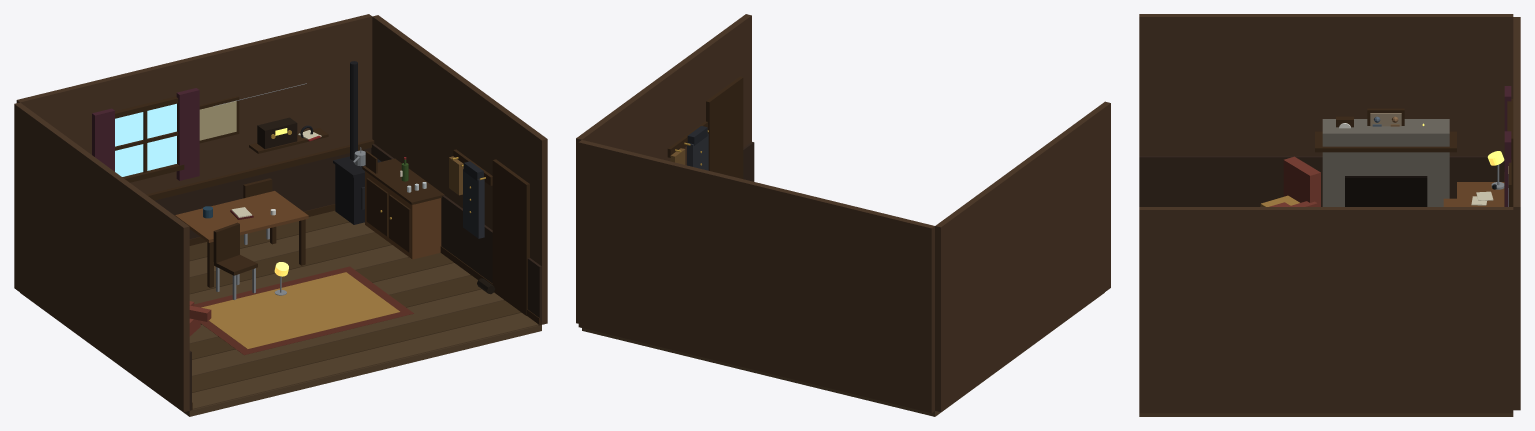
Rendered from cottage.glb.
The picture shows the model from 3 angles, left to right: view 1: azimuth 30°, elevation 25°; view 2: azimuth 150°, elevation 25°; view 3: azimuth 270°, elevation 25°; orthographic projection. The views are drawn at different scales.
Parts seen in each view (by area): view 1: WallLeft, WallBack, WallRight, CtRugBorder, Plank0, Plank1, DoorPanel, BandBack, Plank2, BandRight, CtWinGlass, KitchenTableTop (+24 smaller); view 2: WallBack, WallLeft, WallRight, DoorPanel, Floor, WrenCoat; view 3: WallRight, WallLeft, BandLeft, FireSurround, WallBack, FireOpening, Floor, ArmBack, MantelShelf, CtDeskTop, CtCurtainR, MantelPhoto.
Part boxes in pixels (x1=…): WallLeft: x1=14, y1=102, x2=189, y2=411; WallBack: x1=16, y1=14, x2=372, y2=194; WallRight: x1=372, y1=15, x2=547, y2=324; CtRugBorder: x1=201, y1=272, x2=399, y2=348; Plank0: x1=192, y1=312, x2=538, y2=409; Plank1: x1=192, y1=300, x2=520, y2=392; DoorPanel: x1=492, y1=159, x2=529, y2=315; BandBack: x1=155, y1=148, x2=371, y2=238; Plank2: x1=192, y1=289, x2=503, y2=376; BandRight: x1=371, y1=144, x2=541, y2=324; CtWinGlass: x1=115, y1=103, x2=176, y2=176; KitchenTableTop: x1=175, y1=191, x2=308, y2=242; WallBack: x1=578, y1=140, x2=934, y2=413; WallLeft: x1=935, y1=101, x2=1110, y2=411; WallRight: x1=576, y1=14, x2=751, y2=323; DoorPanel: x1=706, y1=76, x2=743, y2=178; Floor: x1=582, y1=292, x2=1104, y2=416; WrenCoat: x1=687, y1=133, x2=708, y2=170; WallRight: x1=1139, y1=207, x2=1513, y2=413; WallLeft: x1=1139, y1=14, x2=1513, y2=155; BandLeft: x1=1139, y1=156, x2=1504, y2=206; FireSurround: x1=1322, y1=119, x2=1449, y2=206; WallBack: x1=1513, y1=17, x2=1520, y2=410; FireOpening: x1=1345, y1=176, x2=1427, y2=206; Floor: x1=1139, y1=413, x2=1513, y2=416; ArmBack: x1=1283, y1=156, x2=1320, y2=206; MantelShelf: x1=1315, y1=131, x2=1456, y2=152; CtDeskTop: x1=1457, y1=182, x2=1504, y2=206; CtCurtainR: x1=1504, y1=131, x2=1511, y2=206; MantelPhoto: x1=1370, y1=113, x2=1401, y2=126.
Bounding box in the file's own units: 6.2 × 3.1 × 5.1.
